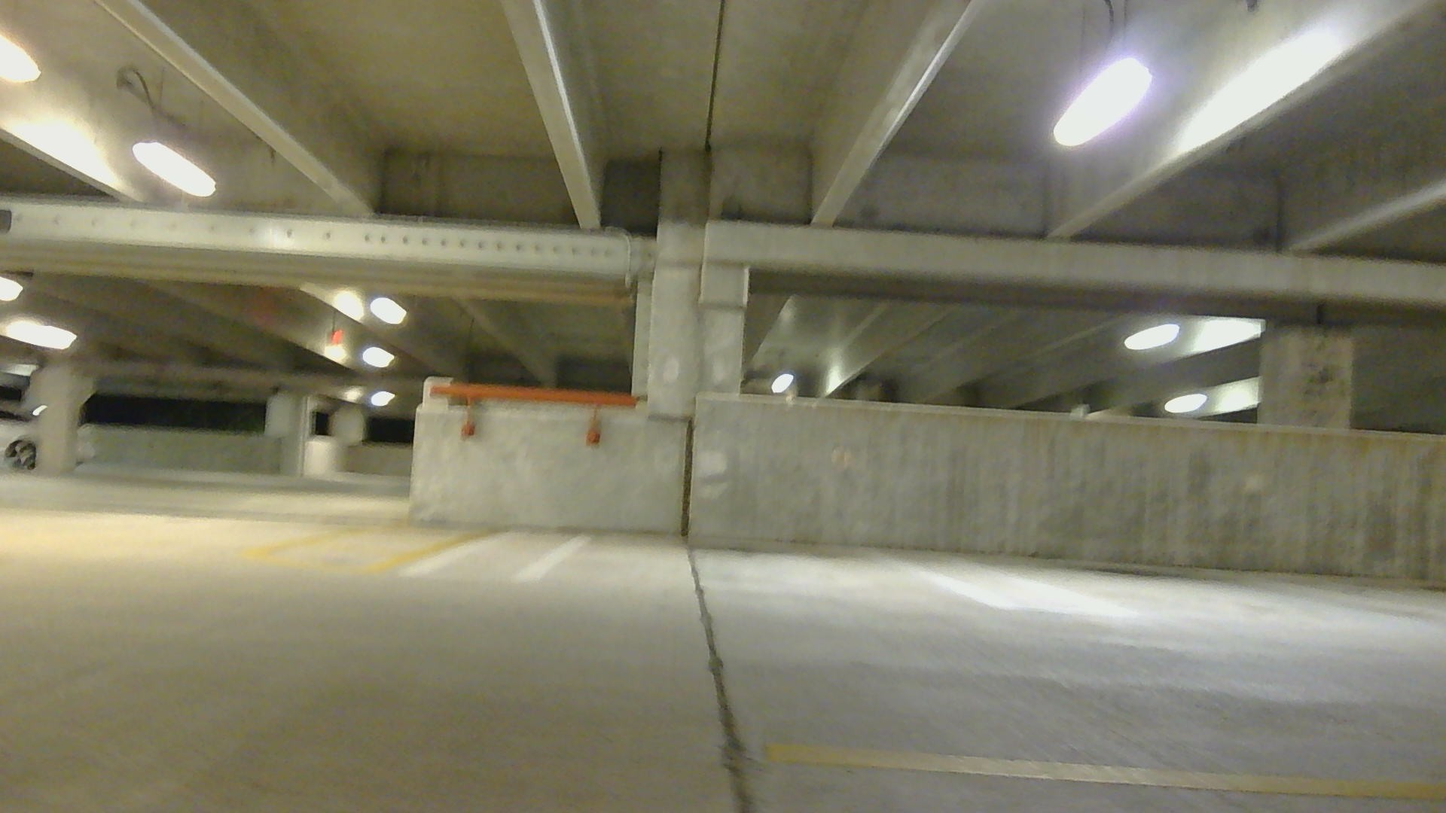empty_spot: (909, 421, 1446, 715), (512, 461, 1050, 614)
